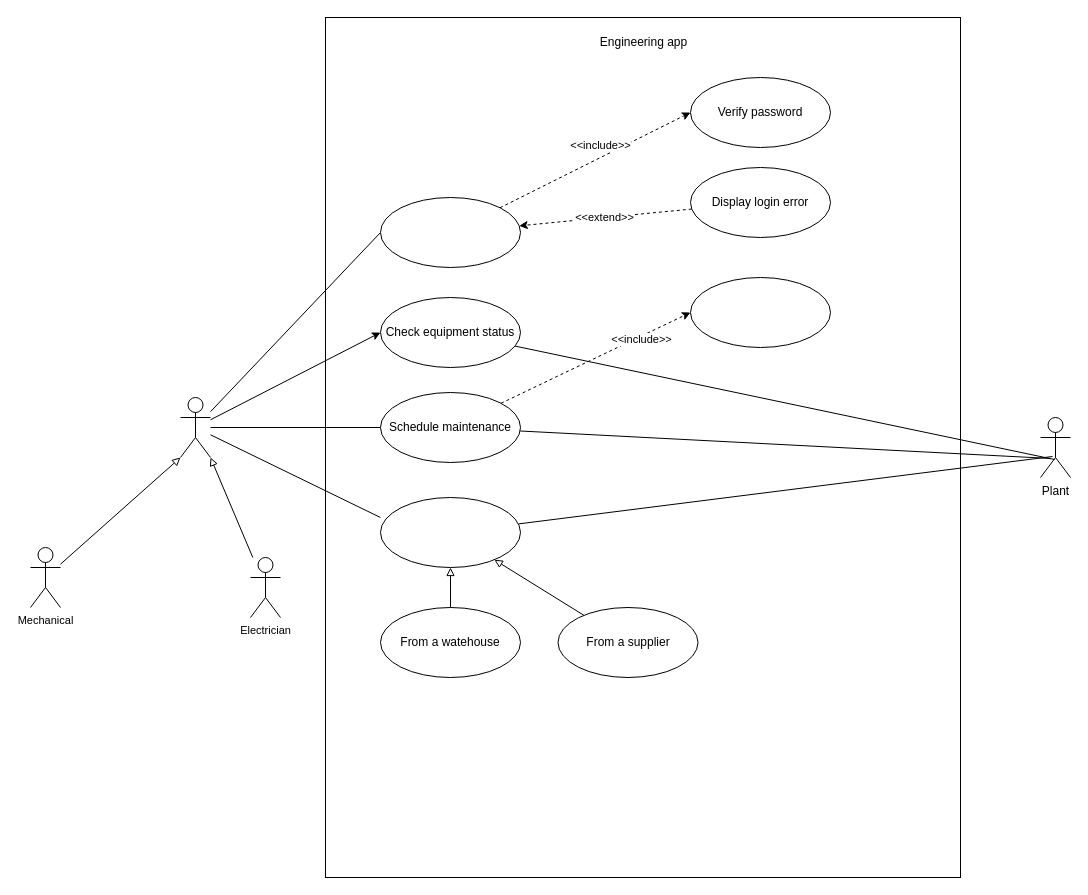
The diagram is 1088 pixels wide and 895 high, and some of its shapes have lost their labels. Here are the shapes that lost their labels. From the top down, the centre of each, then its label:
At [450,232]: "Log in".
At [760,312]: "Check for workers available".
At [195,427]: "Engineer".
At [450,532]: "Order spare parts".
